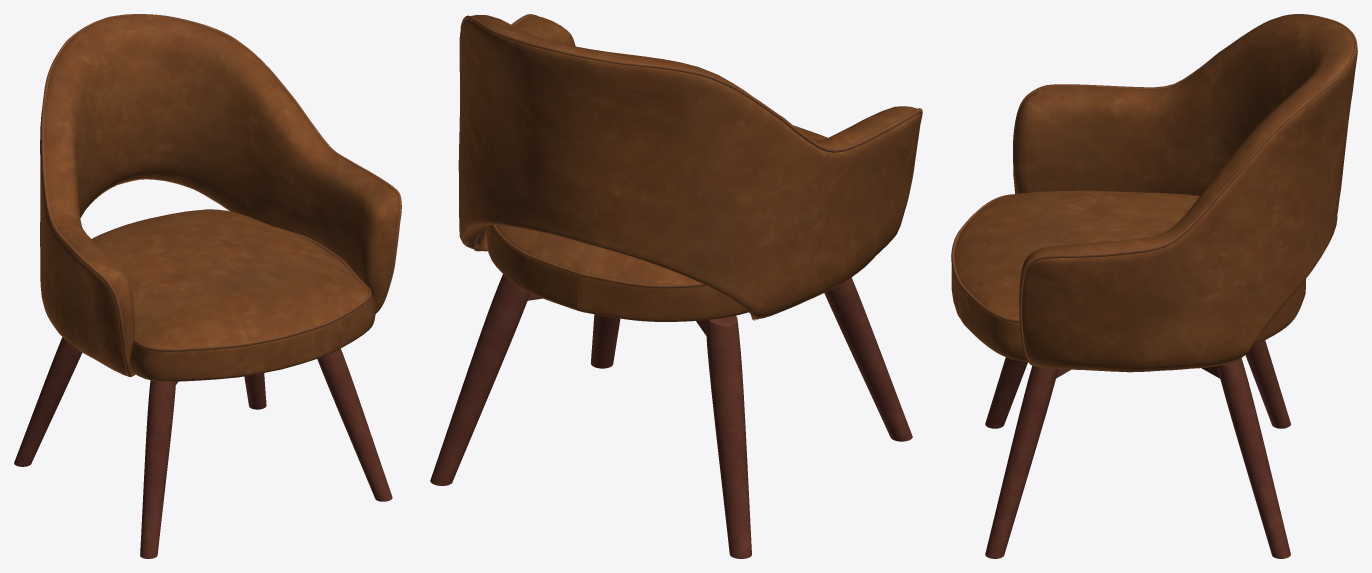
File: abo-B07QJLYCCL.glb
The picture shows the model from 3 angles, left to right: view 1: azimuth 30°, elevation 25°; view 2: azimuth 150°, elevation 25°; view 3: azimuth 270°, elevation 25°; orthographic projection. The views are drawn at different scales.
Size of the model in its own units: 0.64 by 0.777 by 0.64.
Materials: 1 (1 with a texture image).
